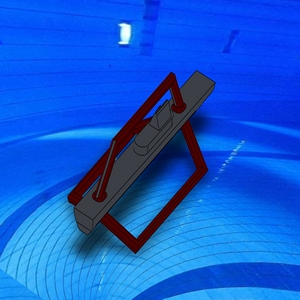submarine: (63, 61, 225, 259)
